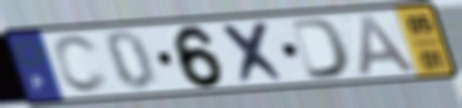0: (105, 29, 159, 93)
6: (171, 22, 230, 90)
A: (356, 14, 422, 78)
C: (50, 33, 112, 96)
D: (287, 16, 353, 81)
X: (217, 19, 293, 87)
